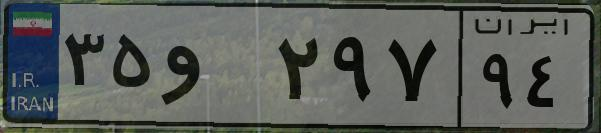2: (270, 28, 330, 110)
3: (57, 26, 110, 100)
4: (525, 38, 570, 115)
5: (110, 28, 158, 98)
7: (385, 28, 445, 110)
9: (330, 28, 385, 110), (475, 38, 525, 113)
و: (158, 20, 270, 120)
